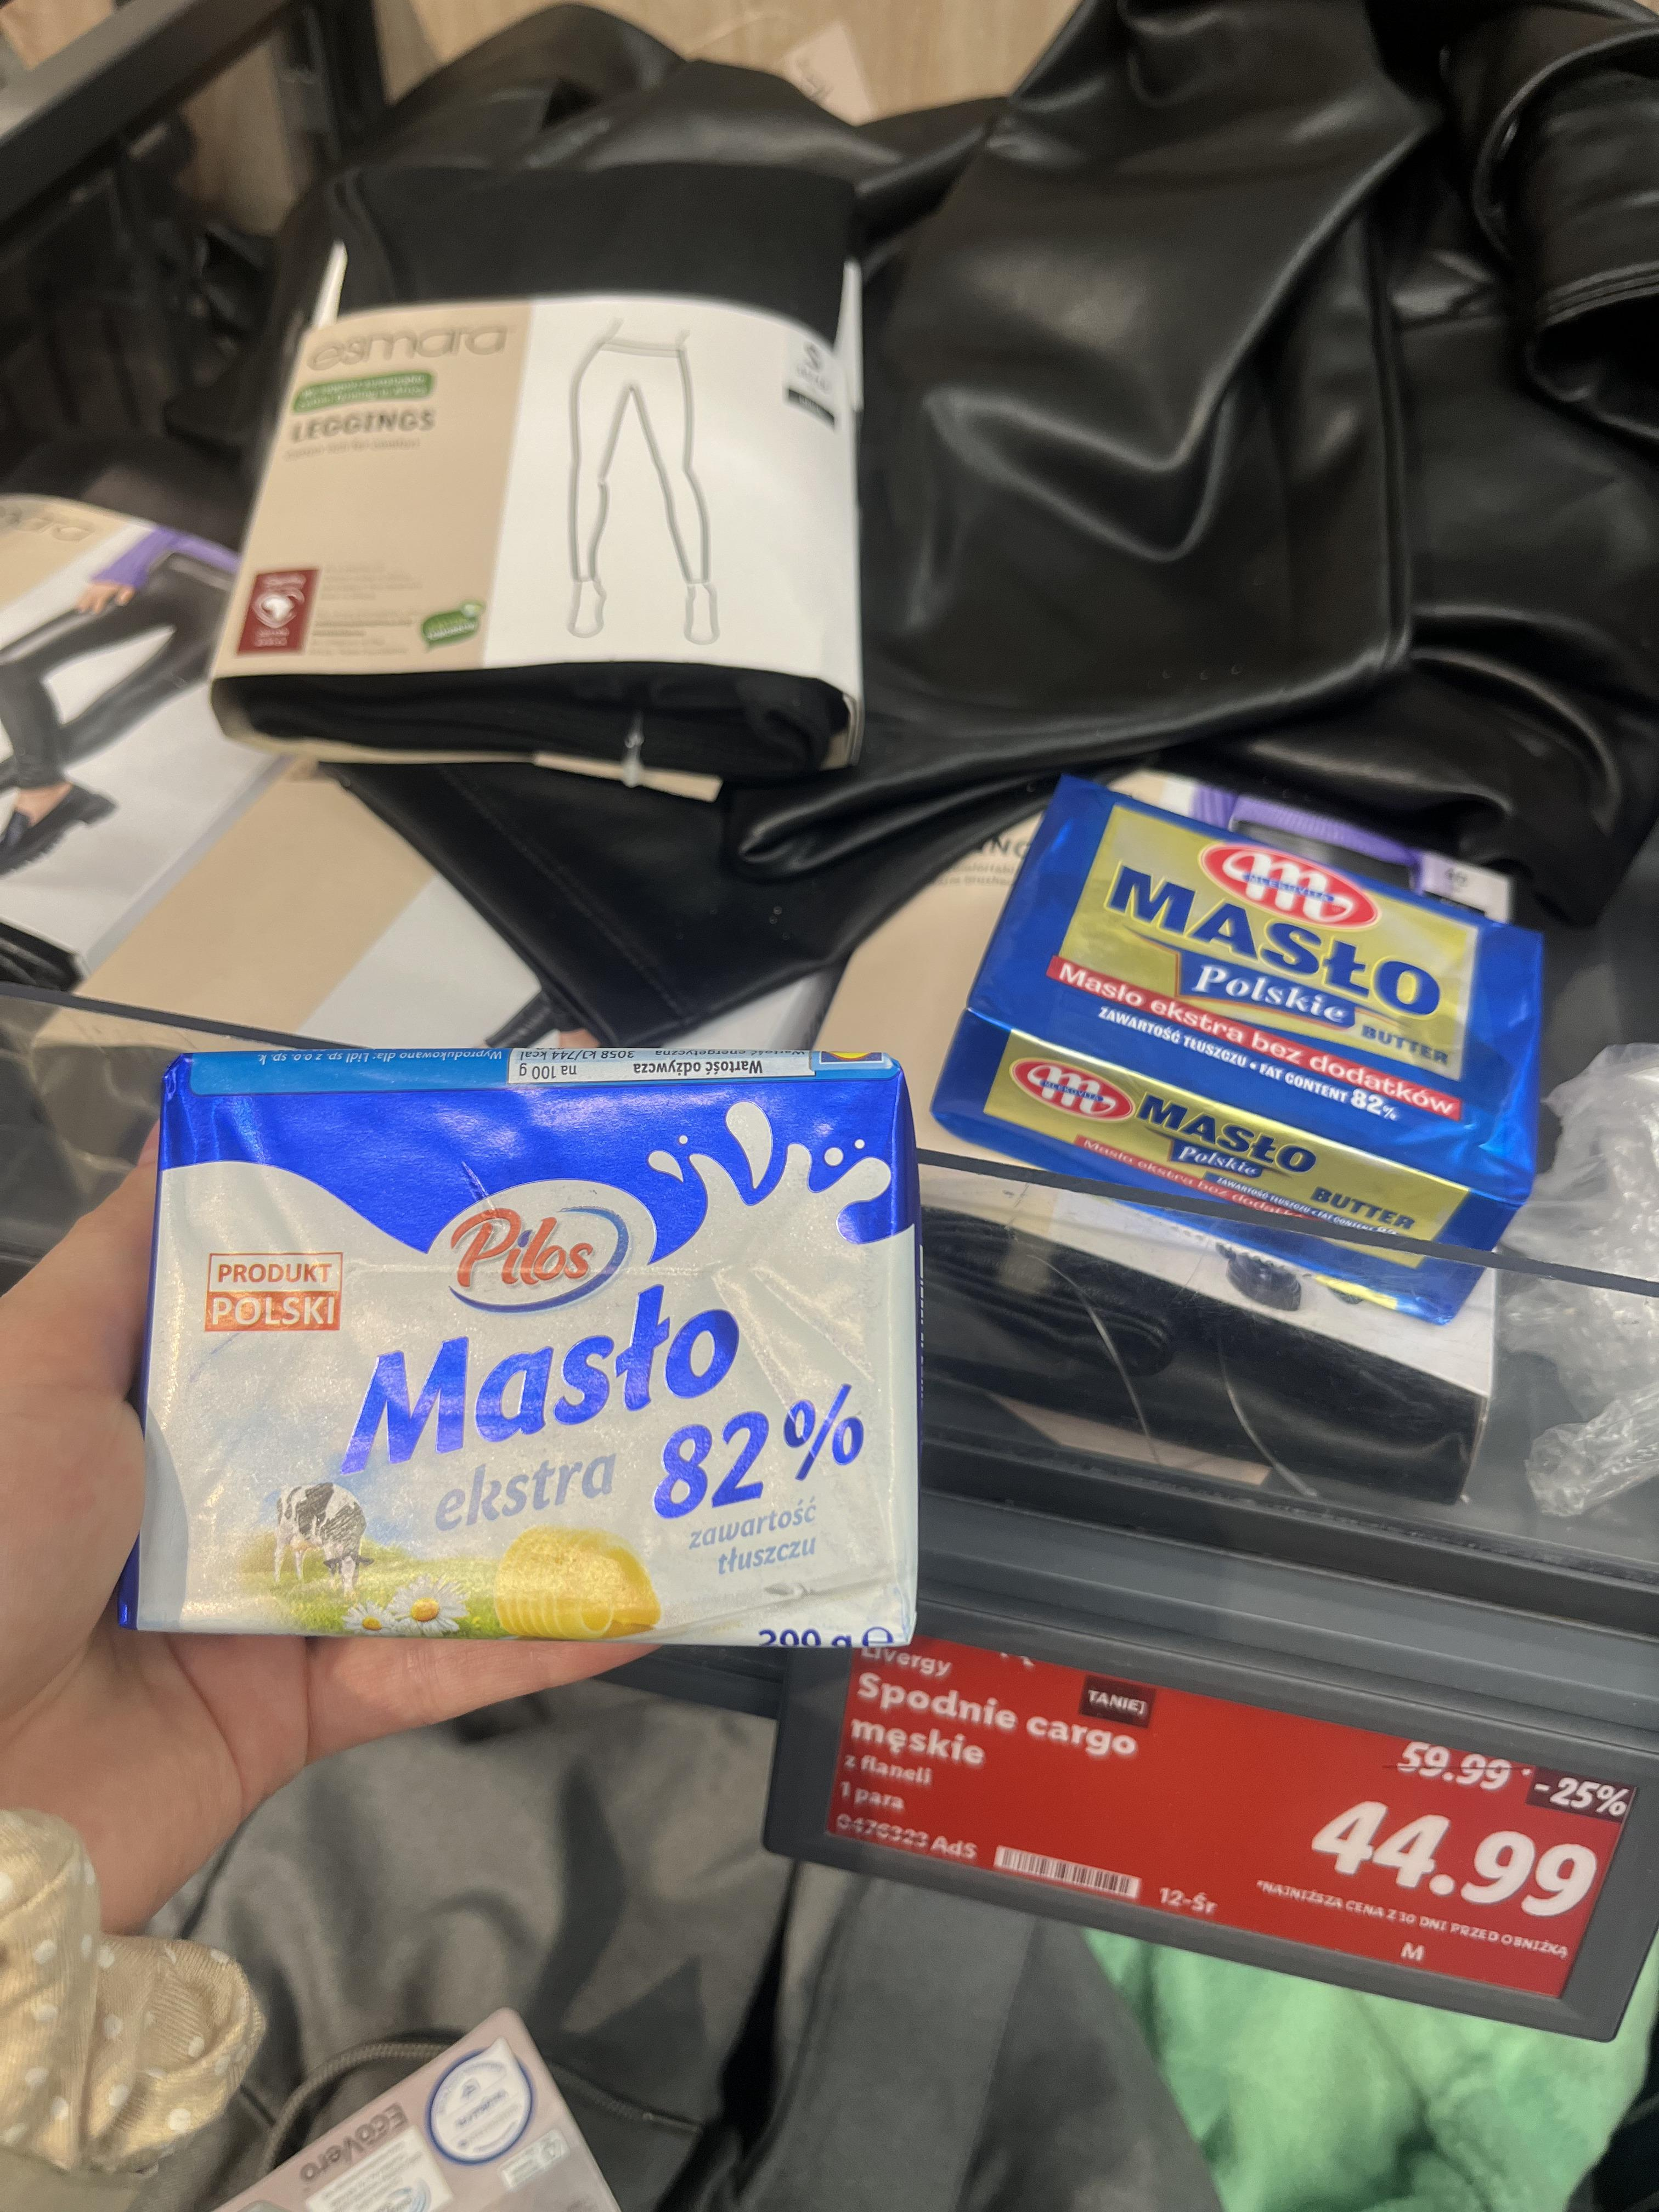Butter: (139, 1031, 943, 1670), (958, 763, 1568, 1296)
